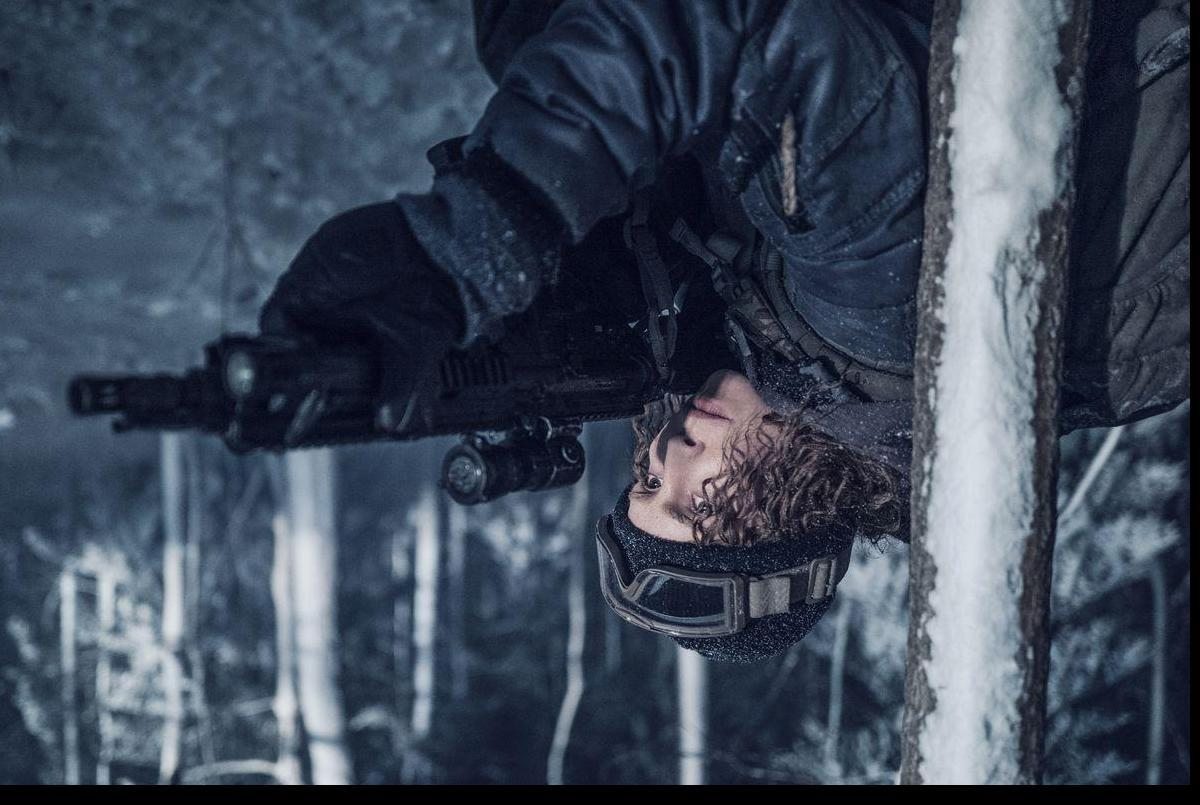larga: (66, 277, 671, 511)
